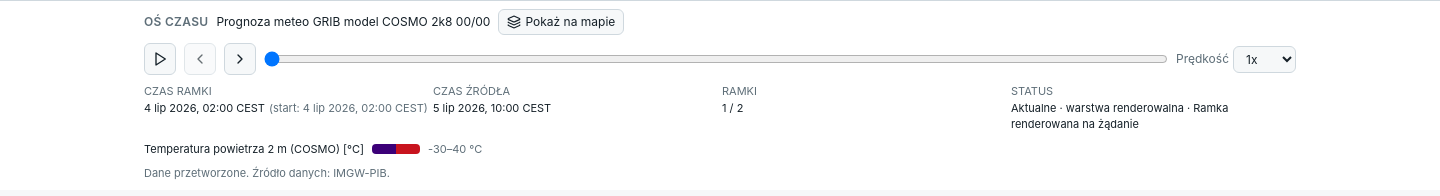
it: TimelineBar › labels frames outside the render window as metadata-only
Expected: the text "1 / 2" is shown, [722,100,743,114]
Click the button named "Następna ramka".
click(240, 59)  # box [224,43,256,75]
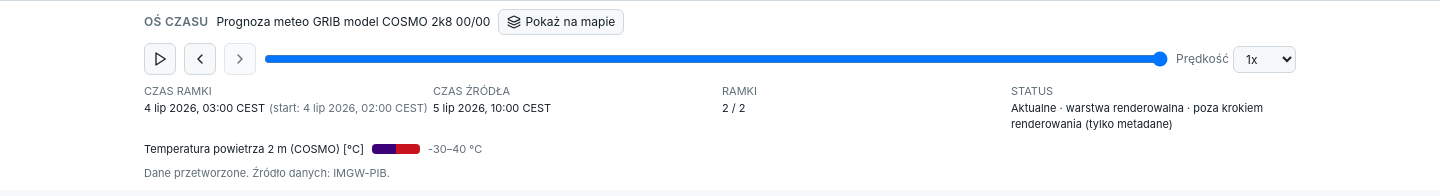
Expected: the text "poza krokiem renderowania (tylko metadane)" is shown, [1011,100,1263,131]
